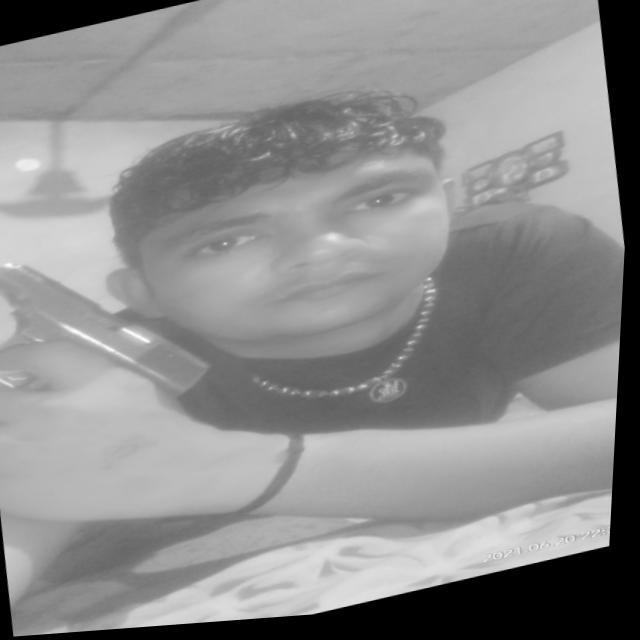weapon: (0, 217, 237, 467)
